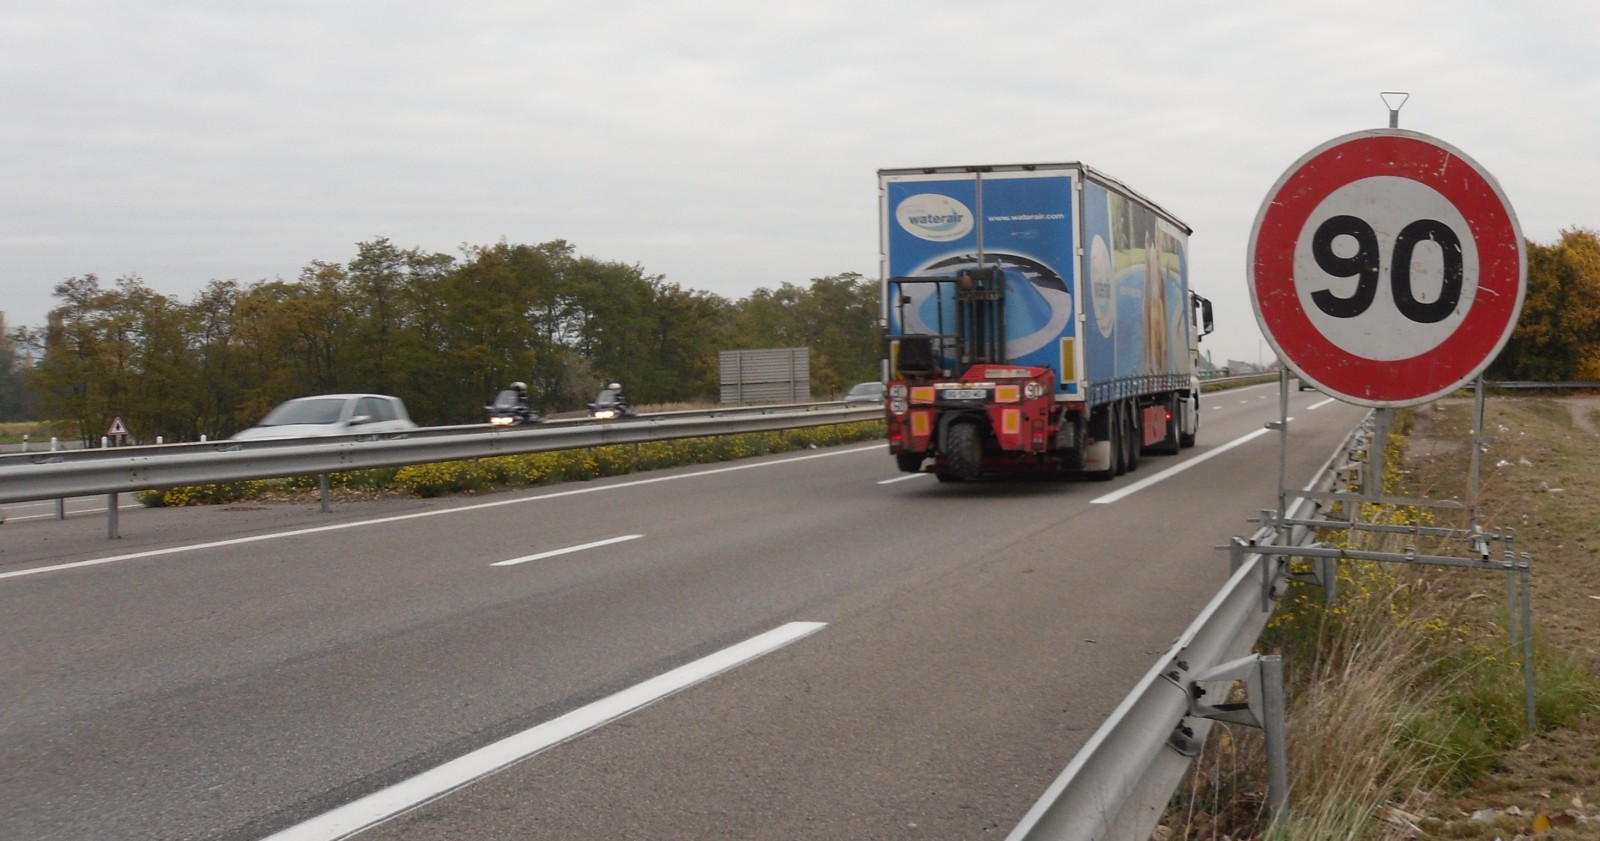Speed_limit_90km: (1241, 131, 1533, 402)
